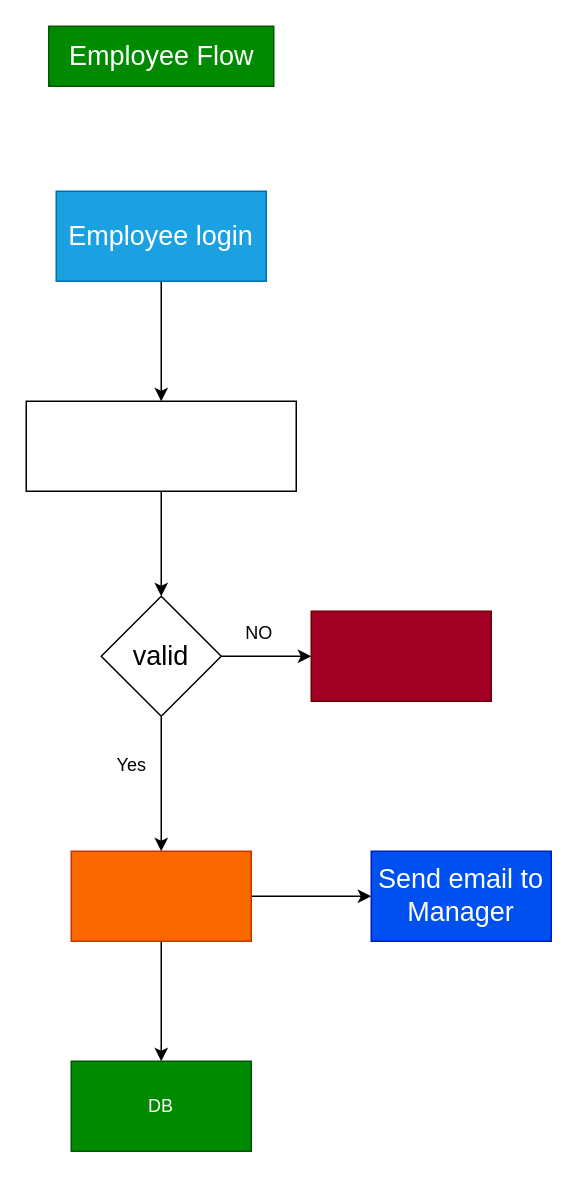
Some shapes in this 578 by 1178 pixel diagram are drawn without their labels. Here are the shapes that lost their labels. From the top down, the centre of each, then its label:
At pixel 160 445: "Select Request Category & fill data".
At pixel 400 655: "Display error".
At pixel 160 895: "Save Request in DB".
